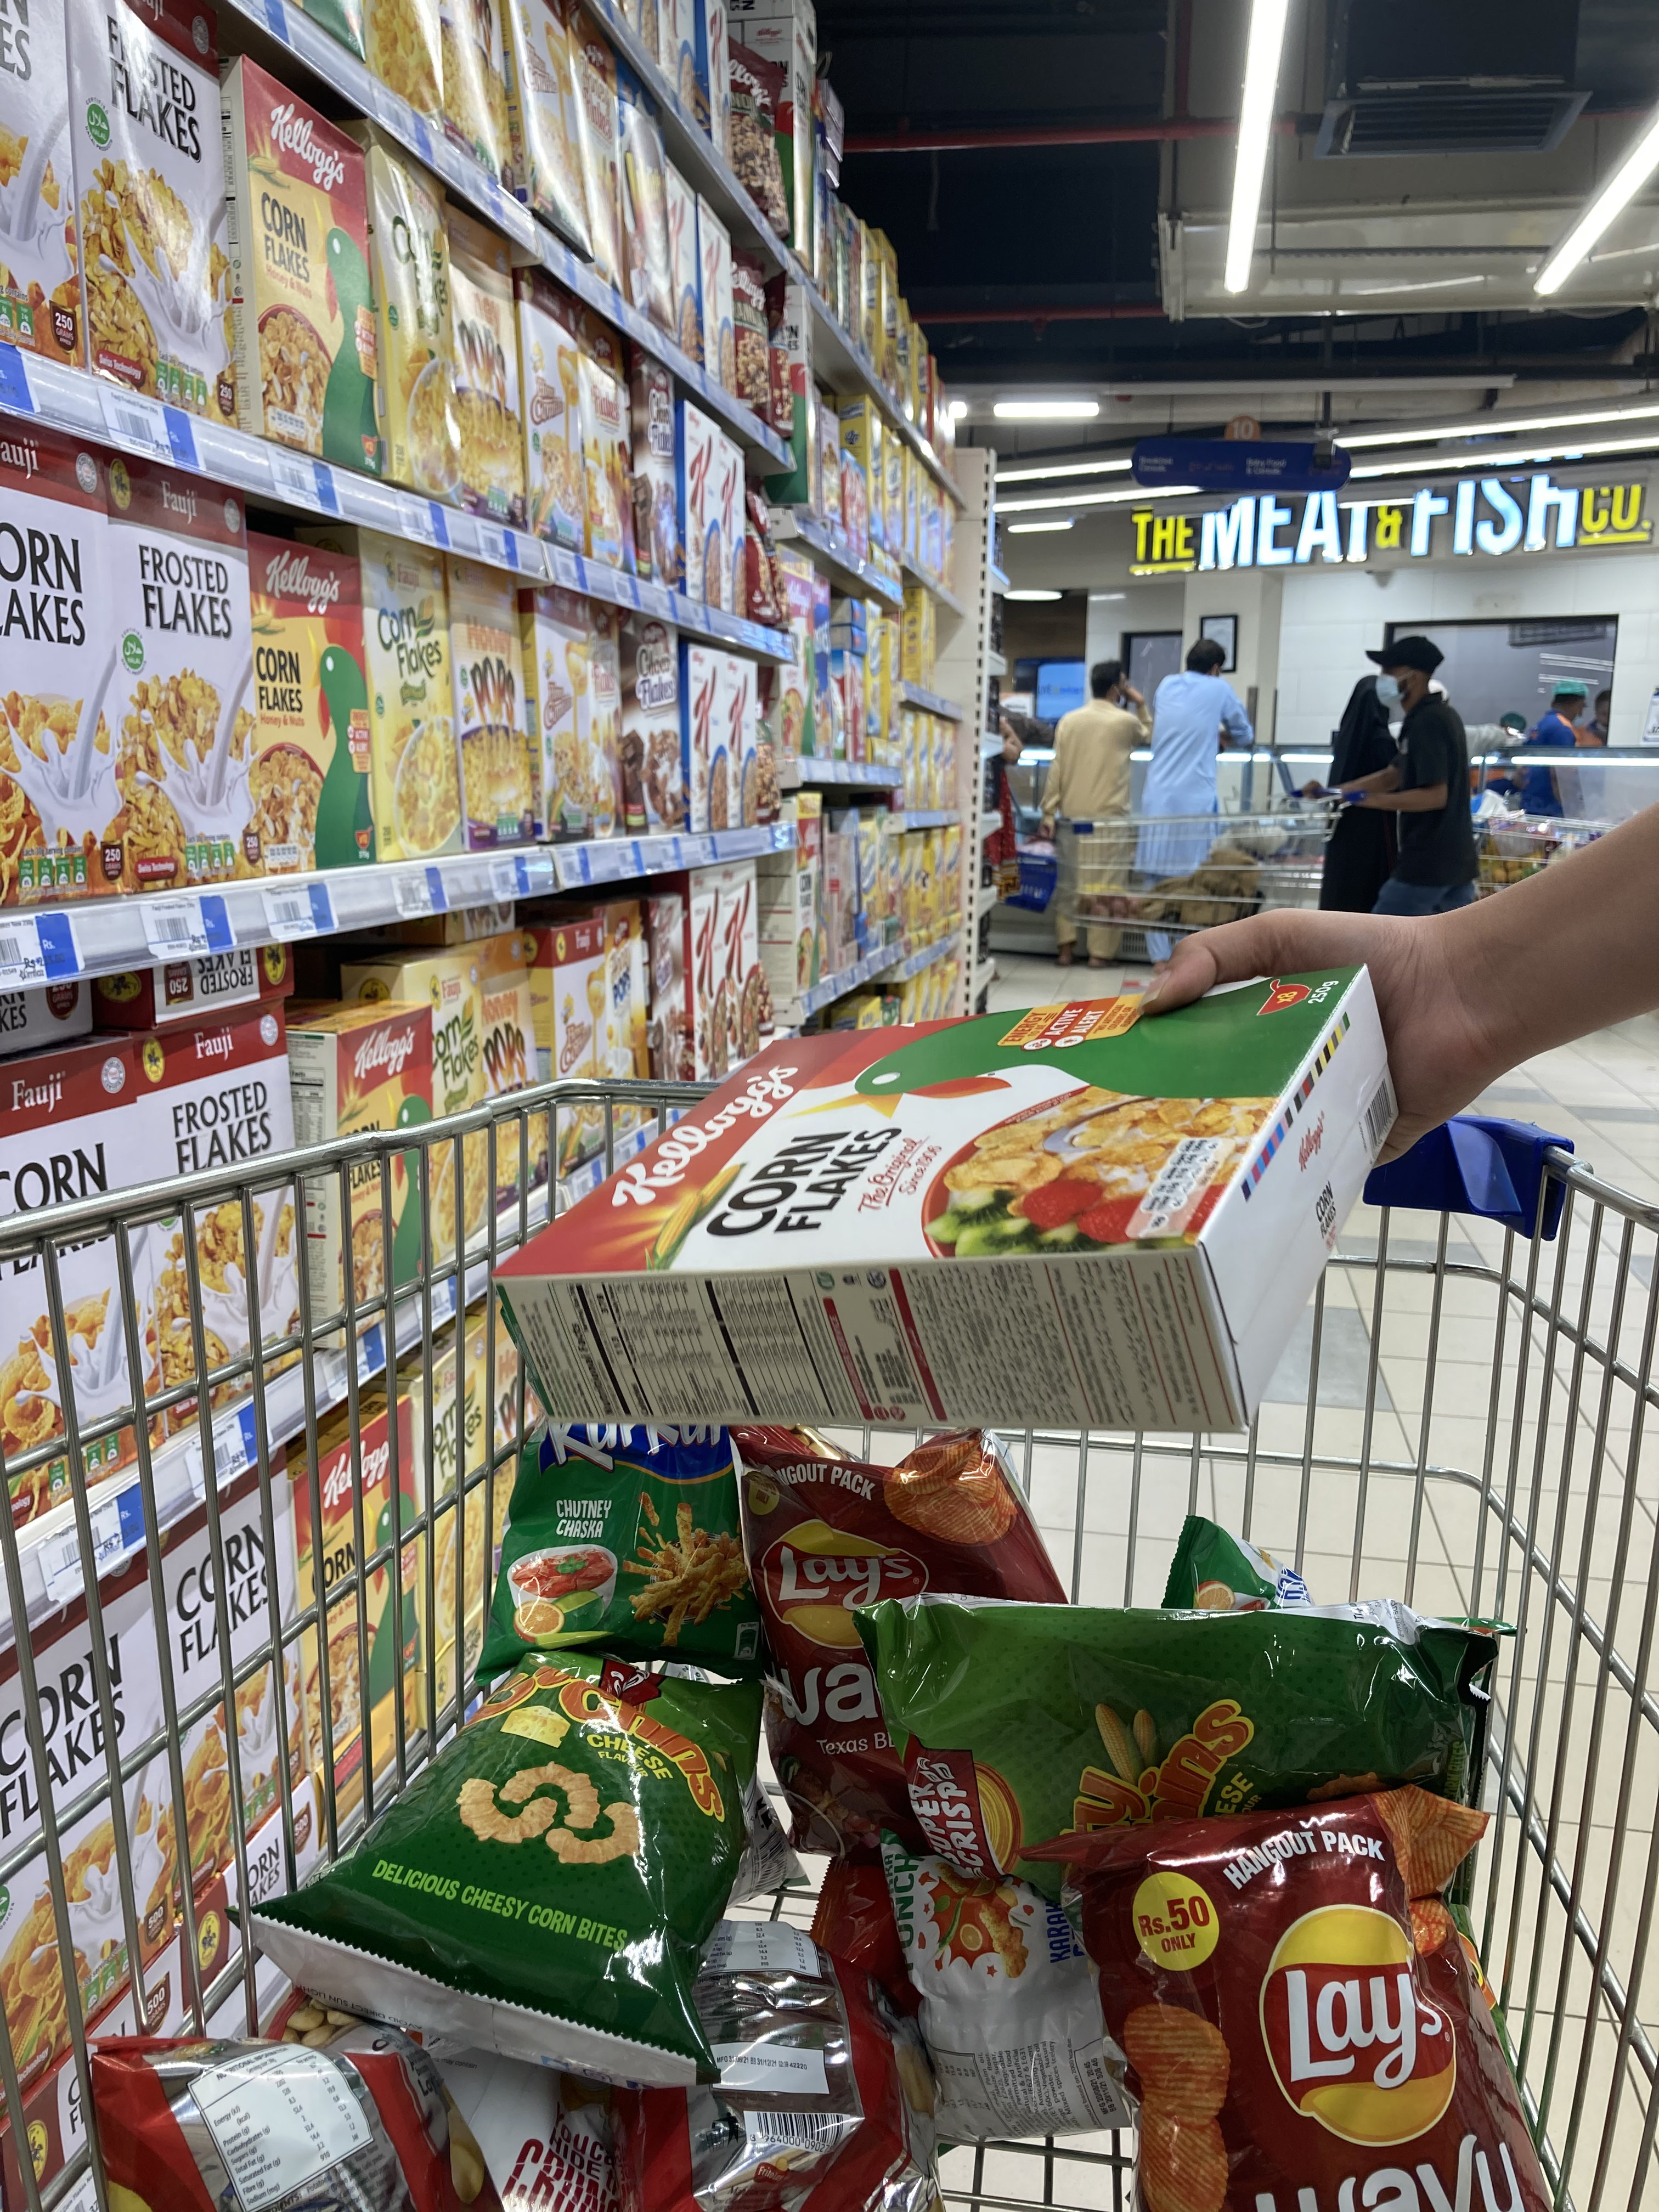Kellogg's Corn Flakes: (474, 954, 1399, 1432)
